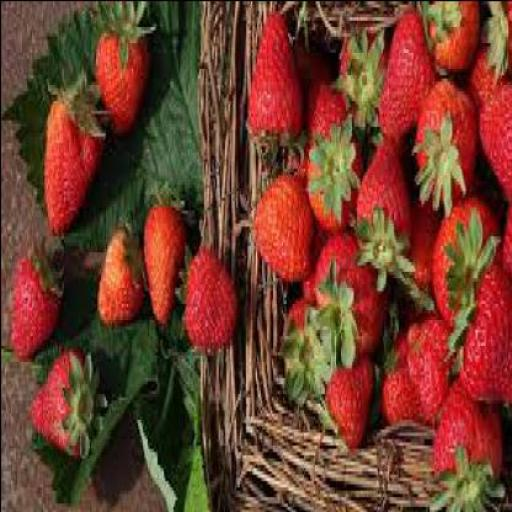biodegradable: (38, 70, 102, 236), (448, 229, 510, 396), (429, 367, 501, 509), (428, 190, 500, 318), (21, 344, 98, 457), (304, 84, 359, 231), (353, 135, 414, 264), (244, 9, 301, 142), (412, 84, 476, 199), (251, 154, 308, 280), (92, 6, 147, 136), (377, 13, 428, 142), (11, 238, 63, 358), (182, 238, 236, 348), (334, 29, 388, 135), (90, 216, 141, 328), (334, 242, 380, 357), (401, 206, 440, 326), (376, 329, 418, 438), (145, 183, 177, 325), (400, 318, 446, 409), (290, 35, 335, 126), (478, 81, 510, 206), (282, 306, 328, 392), (418, 1, 472, 74), (326, 370, 374, 451), (314, 242, 354, 322), (483, 0, 510, 71), (464, 45, 494, 103), (494, 203, 510, 297)
